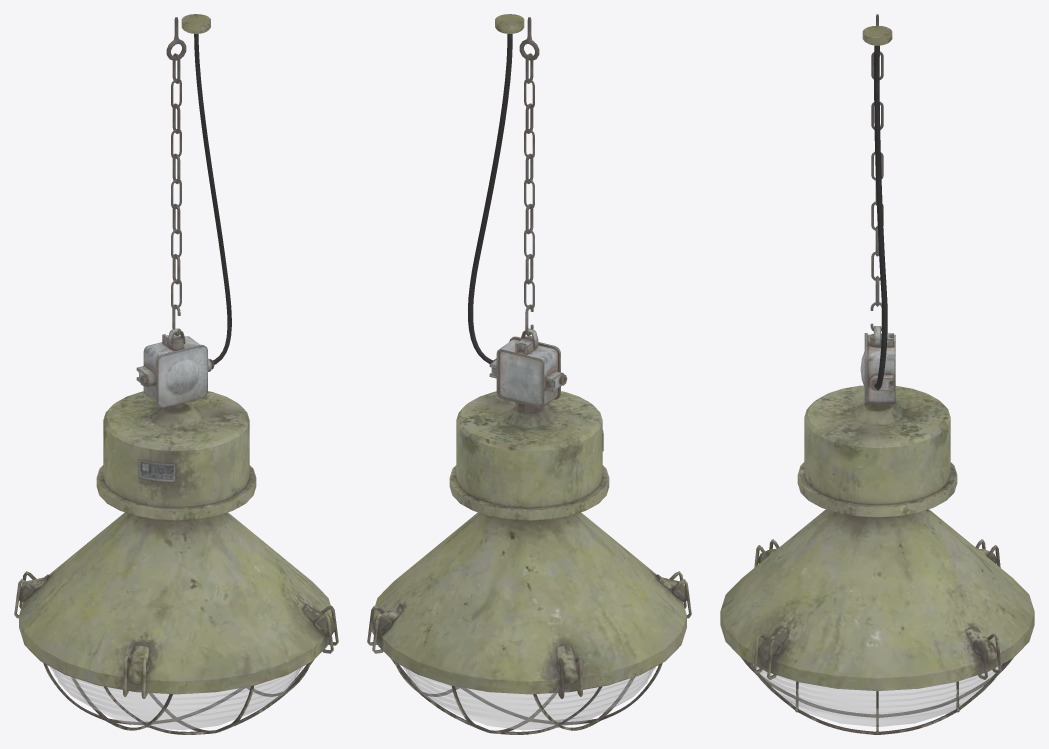
The model's file is ph-hanging_industrial_lamp.glb.
3 renders of one model, left to right at view 1: azimuth 30°, elevation 25°; view 2: azimuth 150°, elevation 25°; view 3: azimuth 270°, elevation 25°, orthographic.
Visible parts, largest first — view 1: hanging_industrial_lamp; view 2: hanging_industrial_lamp; view 3: hanging_industrial_lamp.
Part boxes in pixels (x1,y1,x2,y2): hanging_industrial_lamp: (14, 14, 338, 734); hanging_industrial_lamp: (367, 14, 691, 734); hanging_industrial_lamp: (720, 14, 1034, 734).
Size of the model in its own units: 0.4055 by 1 by 0.4055.
2 materials, 1 textured.
